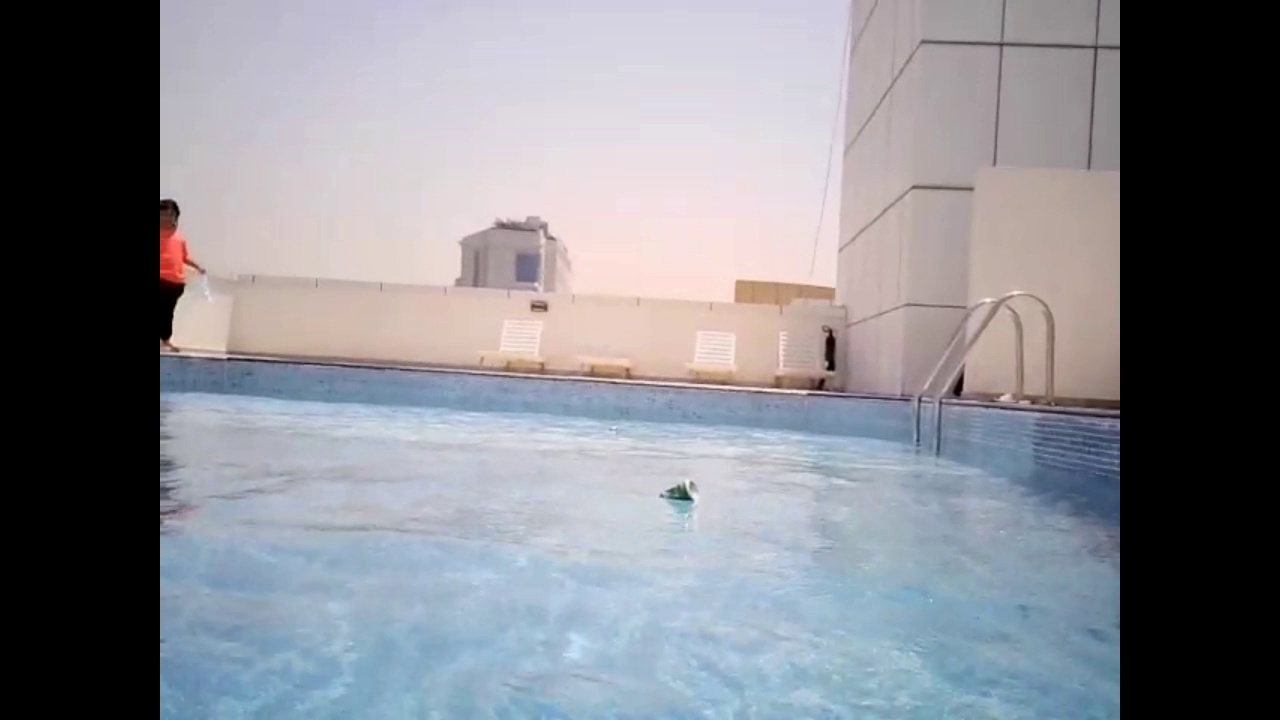debris: (648, 473, 706, 509), (607, 420, 622, 435)
